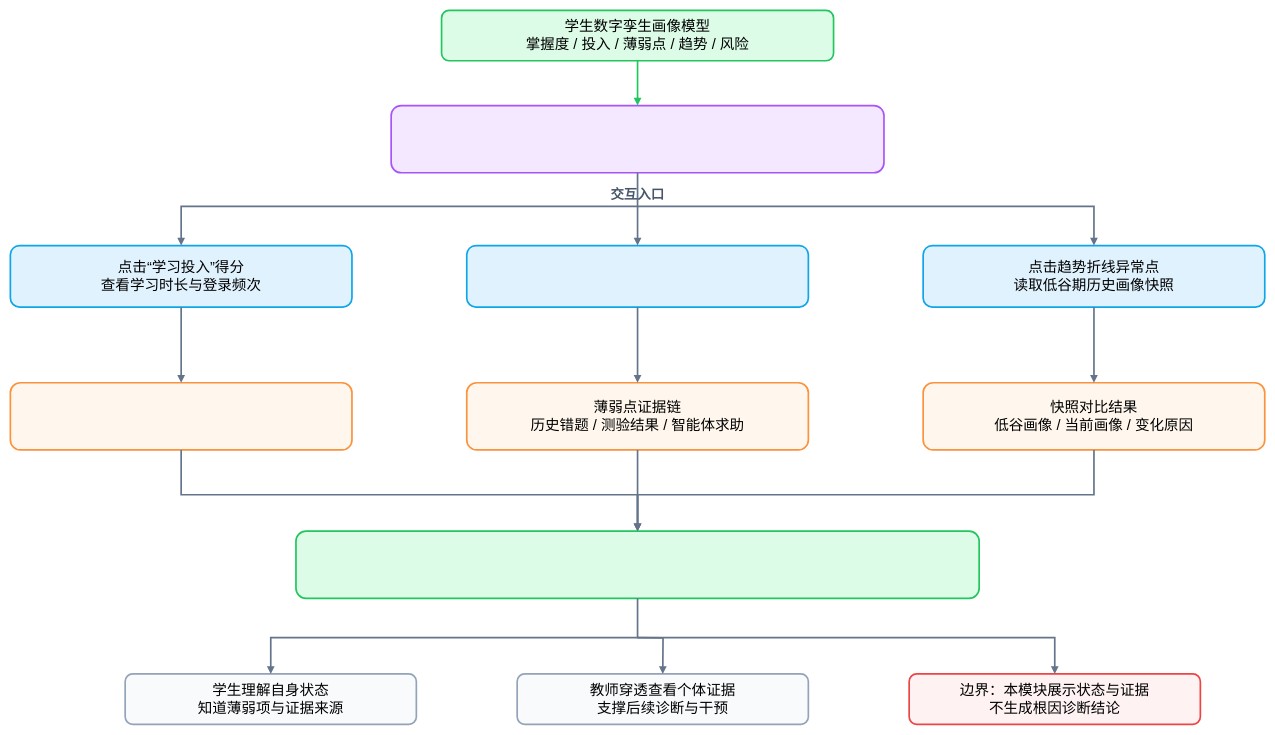
Image size: 1275x735. Some labels were removed from this diagram. The shapes that lost their labels are listed below. From the top down, each one's box as (x1, y1, x2, y2) in pixels, then its label:
(390, 104, 885, 173): 学生画像面板 雷达图 / 薄弱点列表 / 趋势折线 / 预警卡片
(466, 244, 809, 308): 点击“薄弱知识点” 查看错题快照与 5E 求助记录
(9, 382, 353, 451): 投入度证据明细 单日学习时长 / 登录频次 / 资源访问
(295, 530, 980, 599): 面板生成可解释展示结果 指标分数 + 证据清单 + 快照对比 + 风险提示
